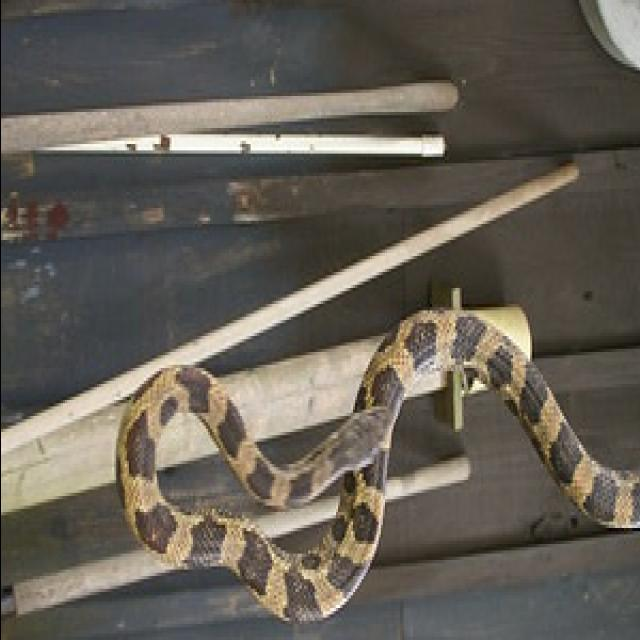Snake: (115, 298, 640, 628)
